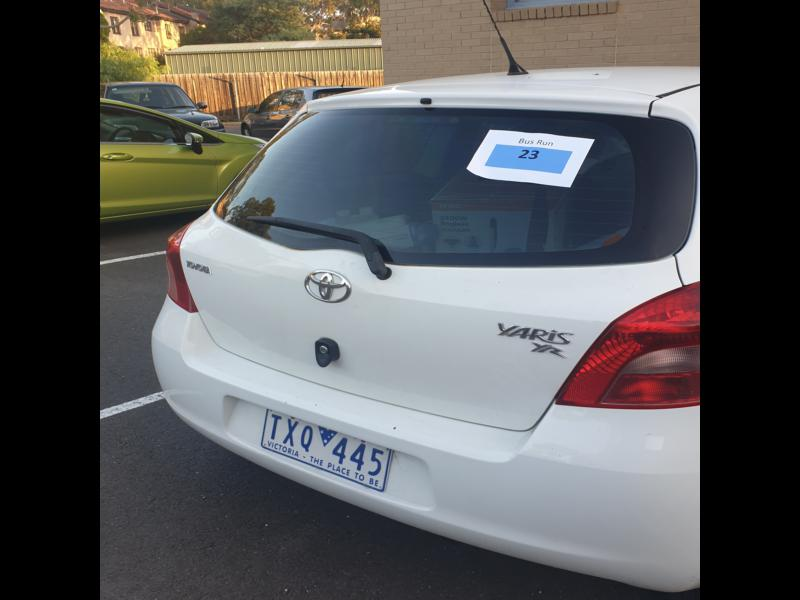BusRun: (486, 143, 573, 173)
PlateNo: (256, 408, 391, 493)
